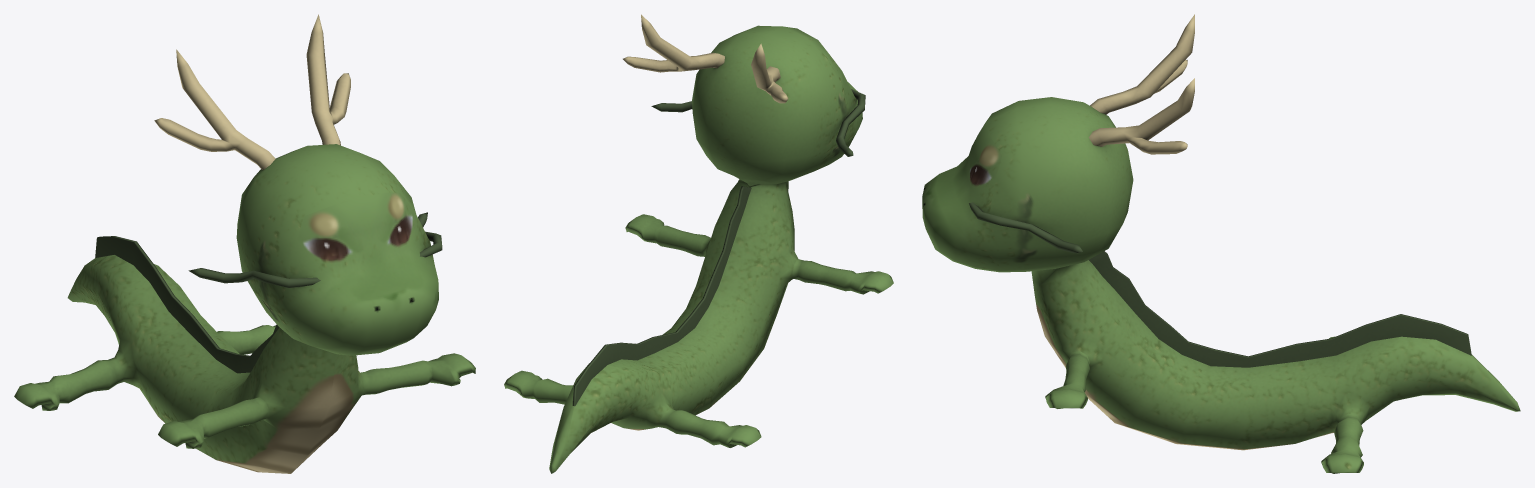
The model's file is Dragon.fbx.
The picture shows the model from 3 angles, left to right: view 1: azimuth 30°, elevation 25°; view 2: azimuth 150°, elevation 25°; view 3: azimuth 270°, elevation 25°; orthographic projection. The views are drawn at different scales.
Parts seen in each view (by area): view 1: dragon; view 2: dragon; view 3: dragon.
Part boxes in pixels (left/top/right/bottom): dragon: left=14, top=14, right=475, bottom=473; dragon: left=504, top=14, right=893, bottom=473; dragon: left=922, top=14, right=1520, bottom=473.
Size of the model in its own units: 9.91 by 13.45 by 18.04.
